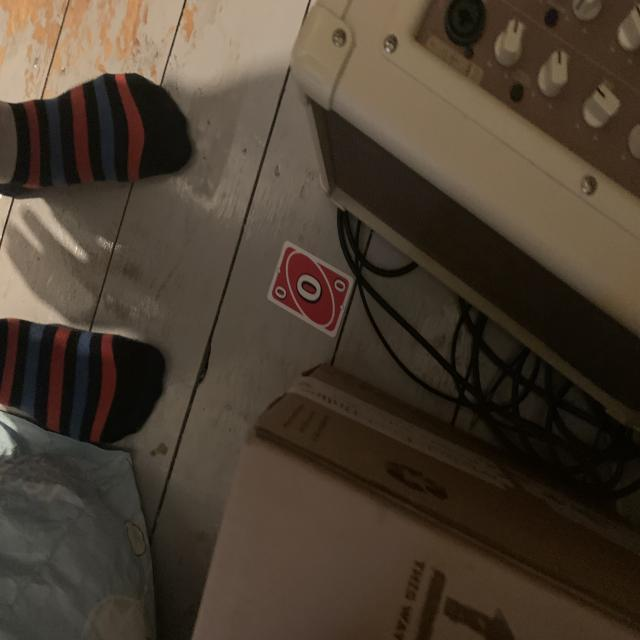lred-0: (331, 274, 350, 297)
